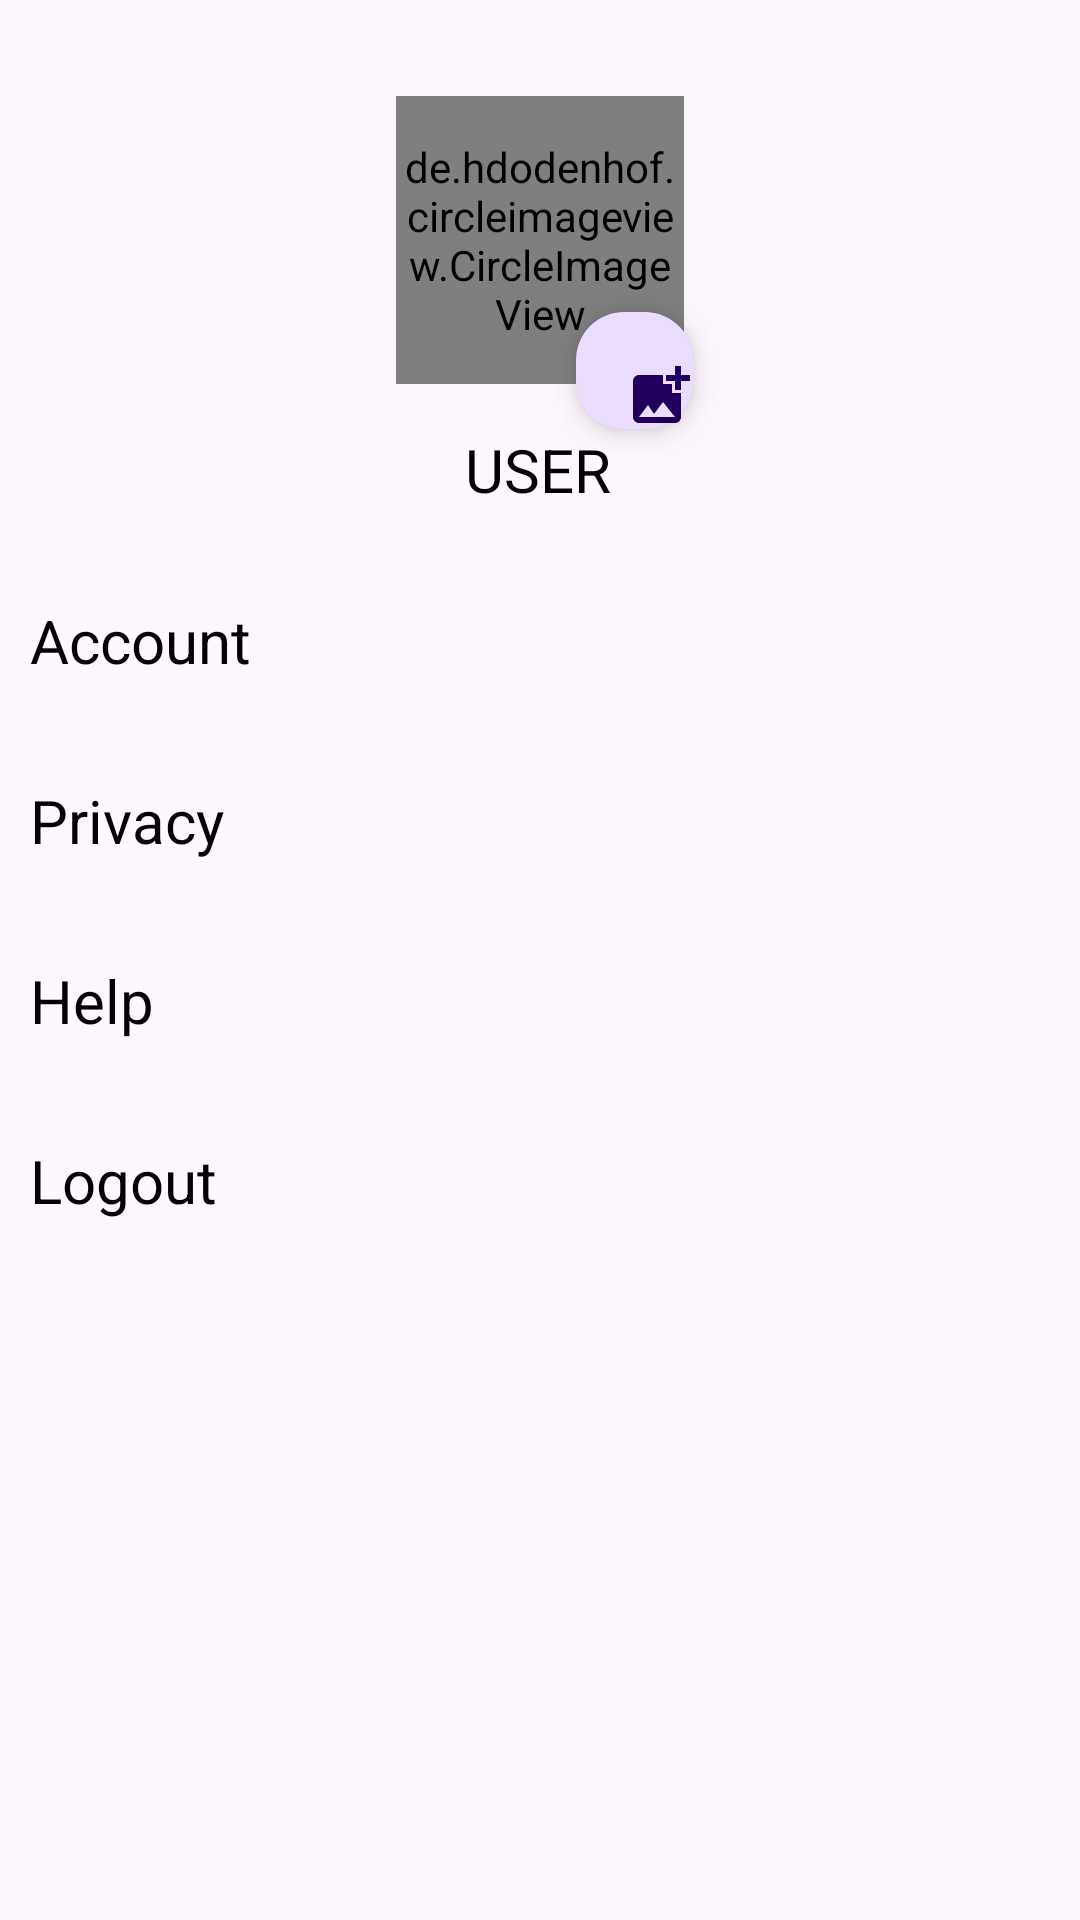

Where to tap for icons on this 1080x1920 app screen, as (x=x, y=y):
add photo alternate: (x=634, y=370)
